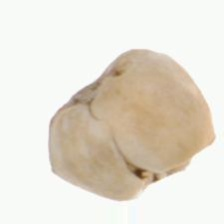L3: (127, 133, 217, 202)
L4: (48, 48, 215, 204)
